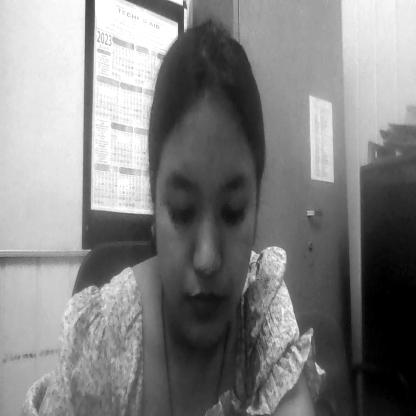Normal: (155, 57, 256, 348)
